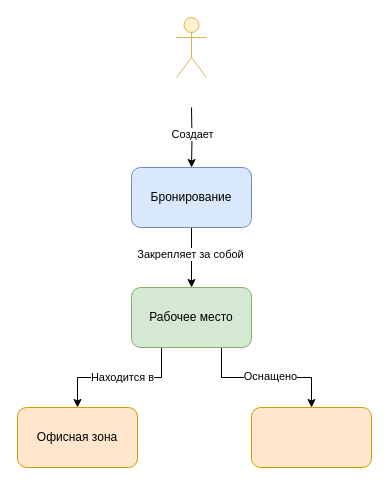
This 389x485 diagram has some shape labels left out. Here are the shapes that lost their labels. From the top down, the centre of each, then its label:
At point 191,47: "Сотрудник".
At point 311,437: "Оборудование".
